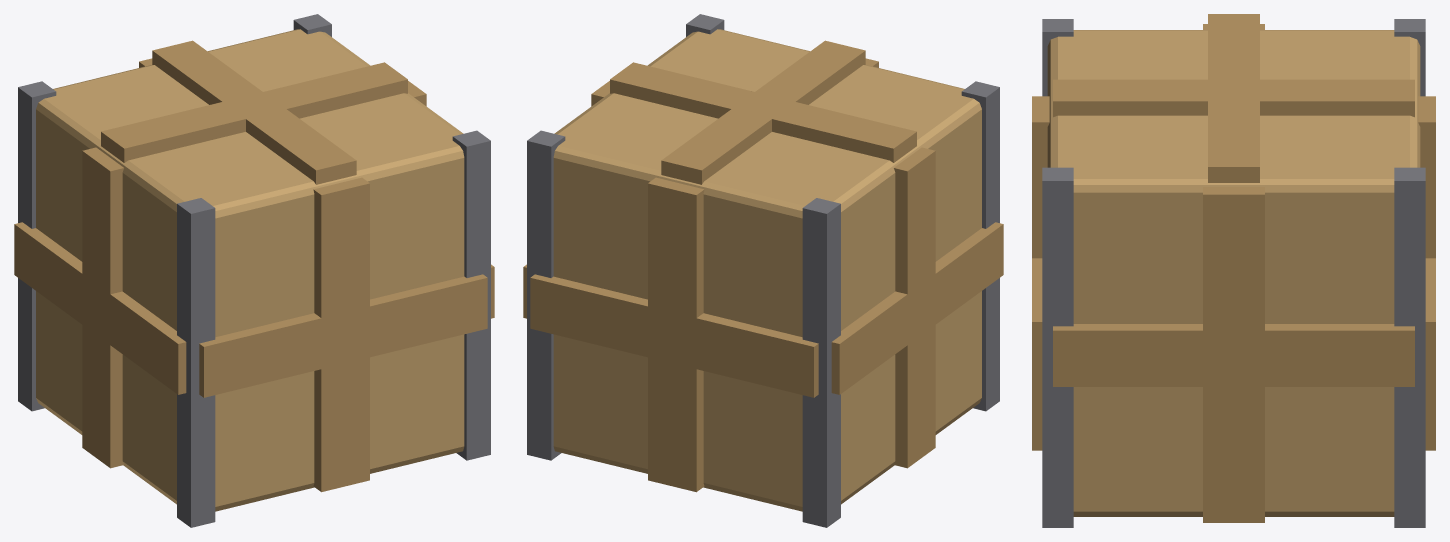
The model's file is crate.glb.
The picture shows the model from 3 angles, left to right: view 1: azimuth 30°, elevation 25°; view 2: azimuth 150°, elevation 25°; view 3: azimuth 270°, elevation 25°; orthographic projection. The views are drawn at different scales.
Parts seen in each view (by area): view 1: Cube, Cube.007, Cube.008, Cube.011, Cube.004, Cube.003, Cube.009, Cube.010, Cube.012, Cube.013, Cube.014; view 2: Cube, Cube.006, Cube.005, Cube.013, Cube.004, Cube.003, Cube.009, Cube.010, Cube.014, Cube.011, Cube.012; view 3: Cube, Cube.001, Cube.002, Cube.010, Cube.012, Cube.014, Cube.009, Cube.006, Cube.008, Cube.005, Cube.007, Cube.011 (+1 smaller).
Boxes of the visible parts, <box> form: Cube: <box>36,29,464,511</box>; Cube.007: <box>199,274,487,397</box>; Cube.008: <box>313,177,369,492</box>; Cube.011: <box>177,198,215,527</box>; Cube.004: <box>82,147,123,468</box>; Cube.003: <box>14,222,186,394</box>; Cube.009: <box>101,62,407,162</box>; Cube.010: <box>152,40,356,184</box>; Cube.012: <box>452,130,490,460</box>; Cube.013: <box>18,81,56,411</box>; Cube.014: <box>293,14,331,36</box>; Cube: <box>553,29,981,511</box>; Cube.006: <box>648,177,704,492</box>; Cube.005: <box>530,274,818,397</box>; Cube.013: <box>802,198,840,527</box>; Cube.004: <box>894,147,935,468</box>; Cube.003: <box>831,222,1003,394</box>; Cube.009: <box>610,62,916,162</box>; Cube.010: <box>661,40,865,184</box>; Cube.014: <box>527,130,565,460</box>; Cube.011: <box>961,81,999,411</box>; Cube.012: <box>686,14,724,36</box>; Cube: <box>1047,30,1420,516</box>; Cube.001: <box>1053,324,1414,386</box>; Cube.002: <box>1203,187,1264,522</box>; Cube.010: <box>1053,79,1414,117</box>; Cube.012: <box>1042,167,1073,527</box>; Cube.014: <box>1394,167,1425,527</box>; Cube.009: <box>1208,14,1259,182</box>; Cube.006: <box>1418,96,1435,450</box>; Cube.008: <box>1032,96,1049,450</box>; Cube.005: <box>1425,258,1435,378</box>; Cube.007: <box>1032,258,1042,378</box>; Cube.011: <box>1042,19,1073,96</box>.
Bounding box in the file's own units: 0.78 × 0.76 × 0.78.
